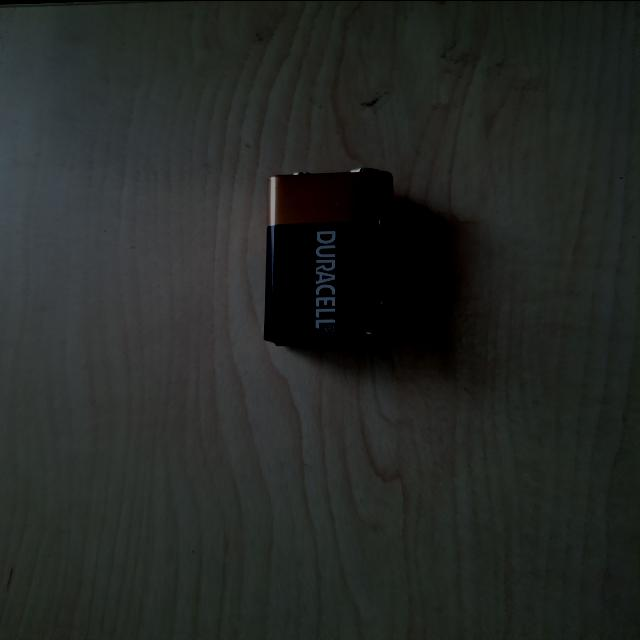9V: (224, 341, 460, 443)
